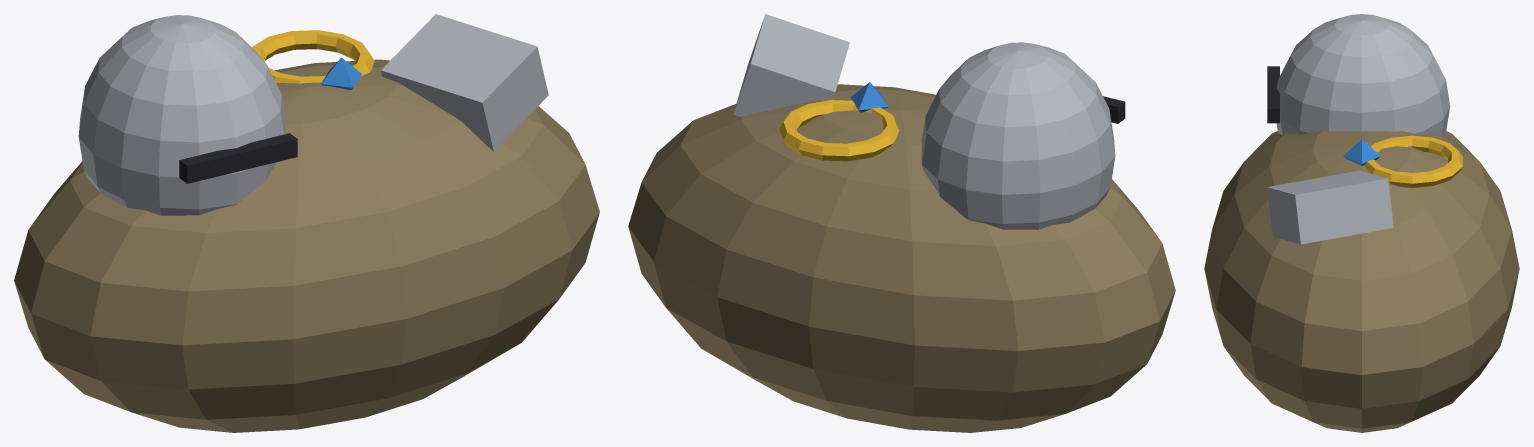
Rendered from armor_costume.glb.
3 views of the same model, side by side, from view 1: azimuth 30°, elevation 25°; view 2: azimuth 150°, elevation 25°; view 3: azimuth 270°, elevation 25° (orthographic). The views are drawn at different scales.
Parts seen in each view (by area): view 1: sack_costume_sack, helmet_costume_steel, gauntlet_costume_steel, visor_costume_dark, necklace_costume_gold, gem_costume_gem; view 2: sack_costume_sack, helmet_costume_steel, gauntlet_costume_steel, necklace_costume_gold, gem_costume_gem; view 3: sack_costume_sack, helmet_costume_steel, gauntlet_costume_steel, necklace_costume_gold, visor_costume_dark, gem_costume_gem.
Boxes of the visible parts, <box> form: sack_costume_sack: <box>14,59,599,432</box>; helmet_costume_steel: <box>78,15,285,215</box>; gauntlet_costume_steel: <box>381,14,548,151</box>; visor_costume_dark: <box>179,133,297,183</box>; necklace_costume_gold: <box>252,30,374,83</box>; gem_costume_gem: <box>321,57,361,89</box>; sack_costume_sack: <box>628,84,1175,432</box>; helmet_costume_steel: <box>921,42,1115,229</box>; gauntlet_costume_steel: <box>733,14,849,116</box>; necklace_costume_gold: <box>779,100,899,161</box>; gem_costume_gem: <box>850,82,888,112</box>; sack_costume_sack: <box>1204,131,1519,432</box>; helmet_costume_steel: <box>1276,14,1450,134</box>; gauntlet_costume_steel: <box>1267,170,1393,244</box>; necklace_costume_gold: <box>1364,135,1462,187</box>; visor_costume_dark: <box>1267,66,1279,123</box>; gem_costume_gem: <box>1343,139,1380,165</box>.
Bounding box in the file's own units: 0.8 × 0.57 × 0.5.
